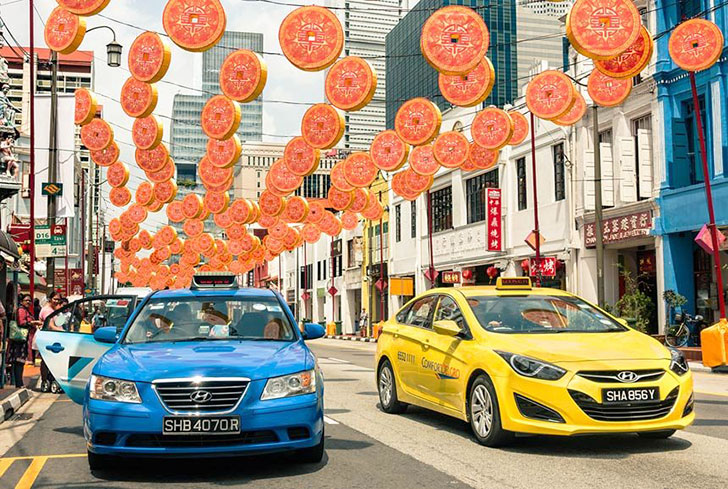car: (377, 268, 706, 472), (84, 283, 354, 483)
